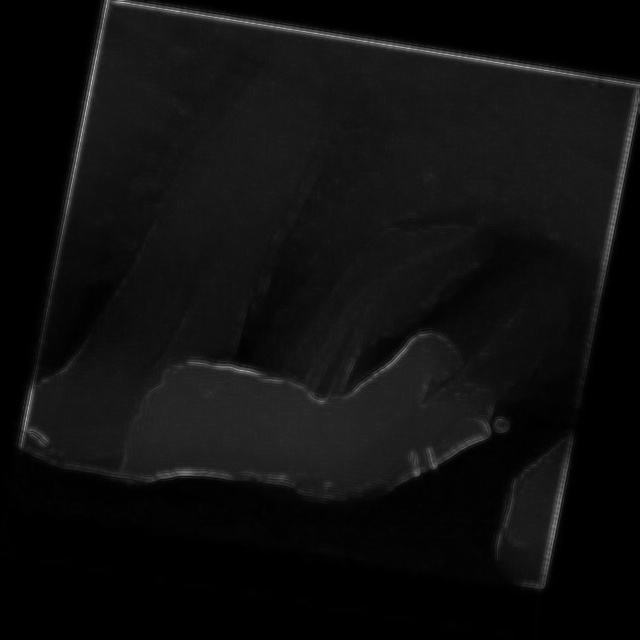Class 2- incomplete endodontic treatment: (118, 135, 598, 591)
